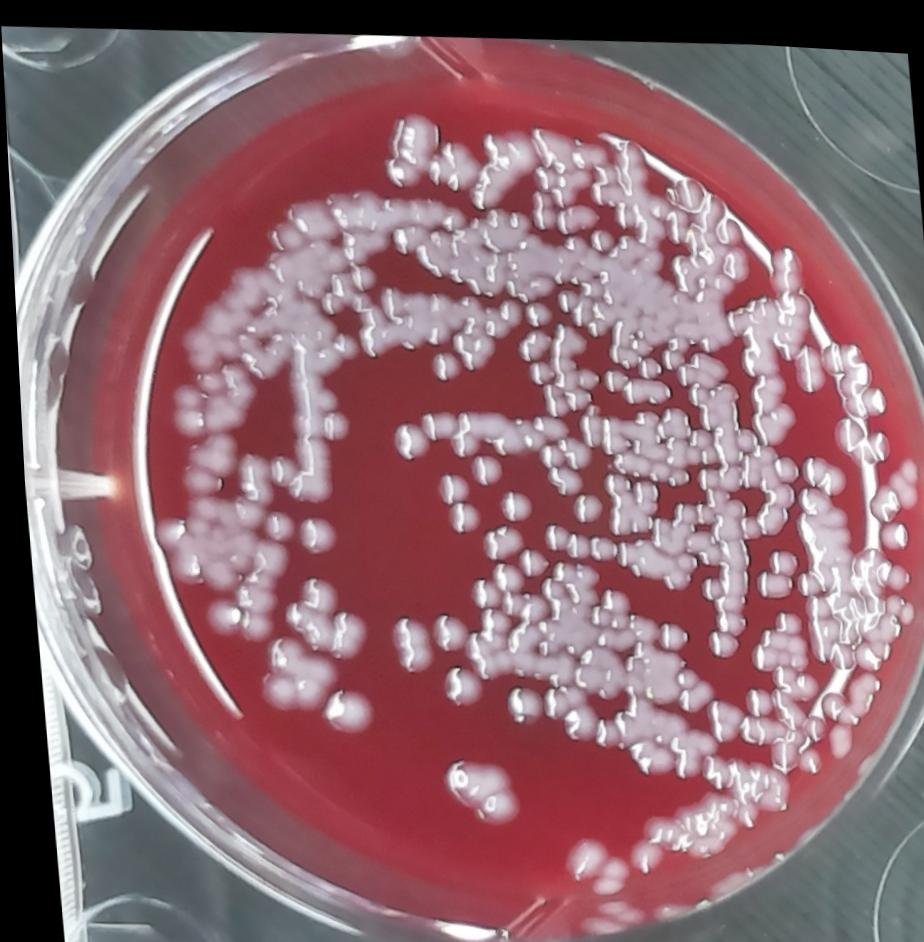smarcescens: (273, 565, 367, 663), (429, 739, 519, 832), (377, 598, 433, 678), (309, 679, 374, 739), (795, 443, 847, 491), (432, 656, 482, 705), (289, 507, 336, 554), (386, 411, 429, 460), (425, 606, 466, 649), (438, 493, 480, 534), (428, 463, 468, 505), (423, 339, 463, 379), (747, 556, 791, 591), (463, 443, 500, 484), (414, 400, 456, 436), (493, 480, 532, 518), (698, 616, 737, 654), (562, 483, 602, 519), (312, 401, 348, 440), (649, 609, 686, 643), (762, 534, 798, 566), (584, 527, 616, 556)
